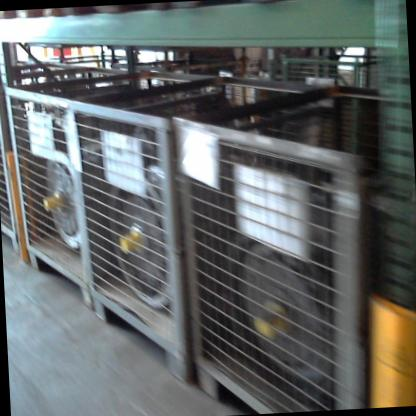stillage: (65, 59, 342, 388), (171, 67, 416, 414), (2, 58, 227, 299), (0, 54, 112, 265), (273, 47, 393, 119)
